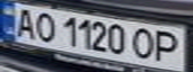0: (106, 21, 130, 56)
1: (57, 15, 78, 47), (75, 17, 93, 50)
2: (90, 19, 109, 53)
A: (9, 6, 39, 38)
O: (127, 25, 160, 61), (30, 9, 60, 43)
P: (151, 28, 187, 64)
